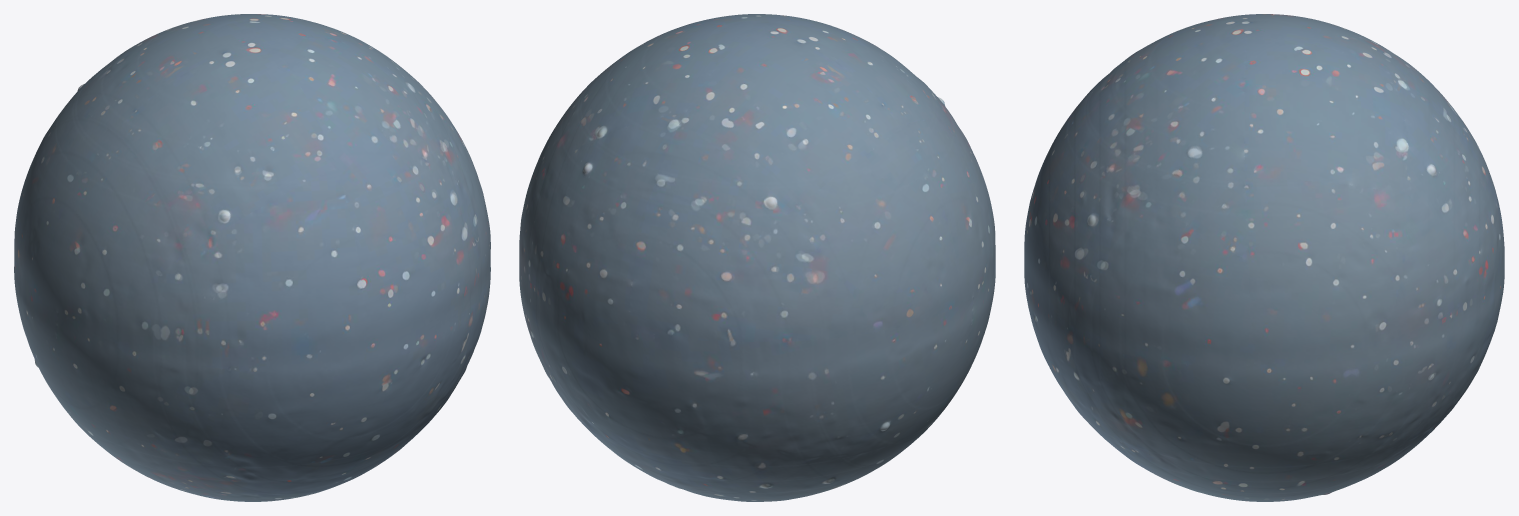
File: detailed_realistic_model_crystalball_05.glb
3 views of the same model, side by side, from view 1: azimuth 30°, elevation 25°; view 2: azimuth 150°, elevation 25°; view 3: azimuth 270°, elevation 25° (orthographic).
Parts seen in each view (by area): view 1: tripo_node_f8fcb98a-07e2-4c56-a11f-78df1743db17; view 2: tripo_node_f8fcb98a-07e2-4c56-a11f-78df1743db17; view 3: tripo_node_f8fcb98a-07e2-4c56-a11f-78df1743db17.
Boxes of the visible parts, bbox=[...] form: tripo_node_f8fcb98a-07e2-4c56-a11f-78df1743db17: bbox=[14, 14, 490, 501]; tripo_node_f8fcb98a-07e2-4c56-a11f-78df1743db17: bbox=[519, 14, 995, 501]; tripo_node_f8fcb98a-07e2-4c56-a11f-78df1743db17: bbox=[1024, 14, 1504, 501].
Size of the model in its own units: 0.9712 by 1 by 0.9789.
1 material, 1 textured.
